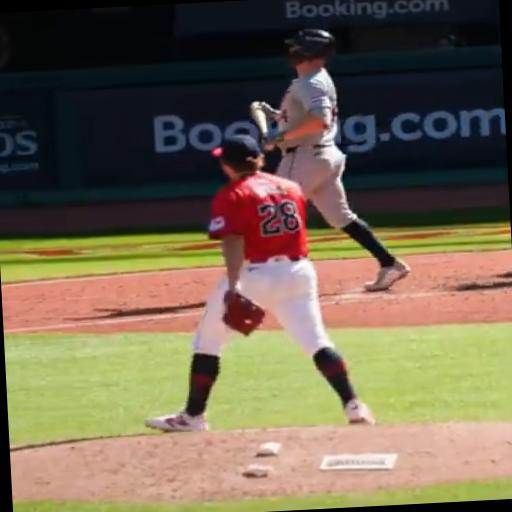bat: (250, 102, 268, 137)
